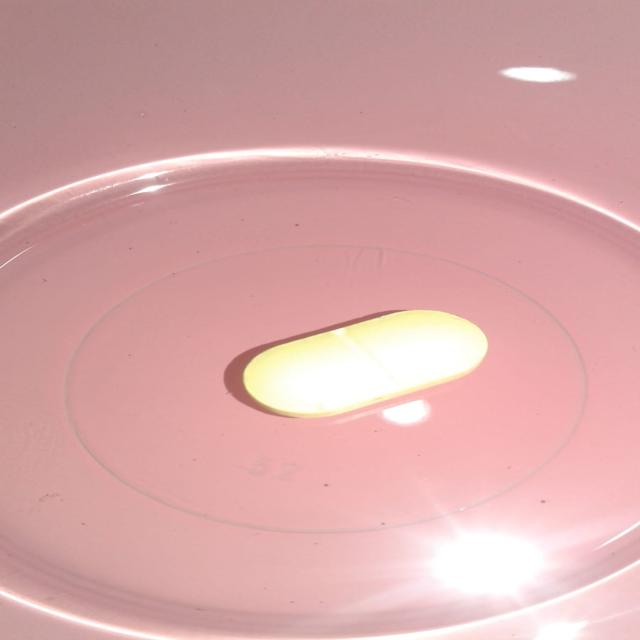pills: (218, 300, 511, 428)
